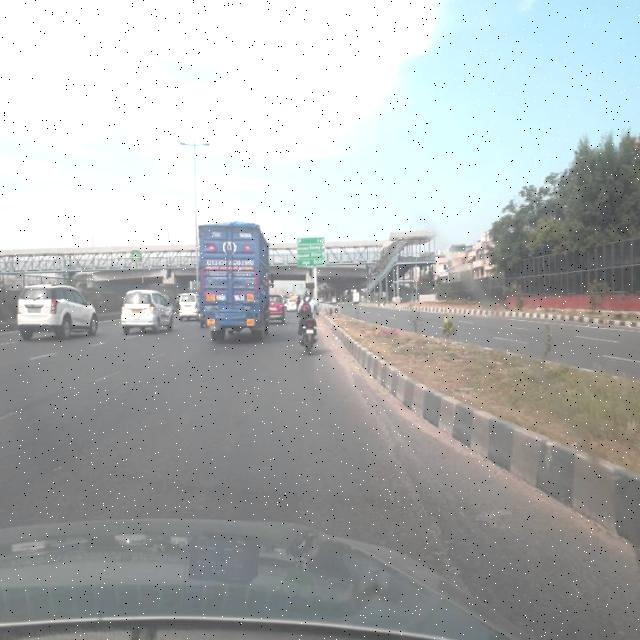D00: (356, 387, 463, 574)
